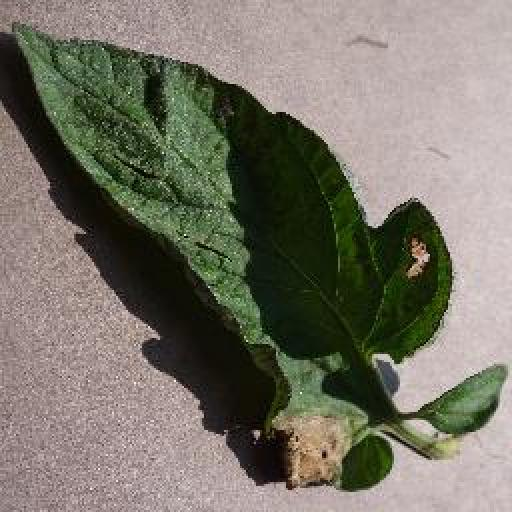Late Blight: (6, 17, 454, 495)
